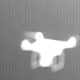plane: (20, 28, 80, 72)
